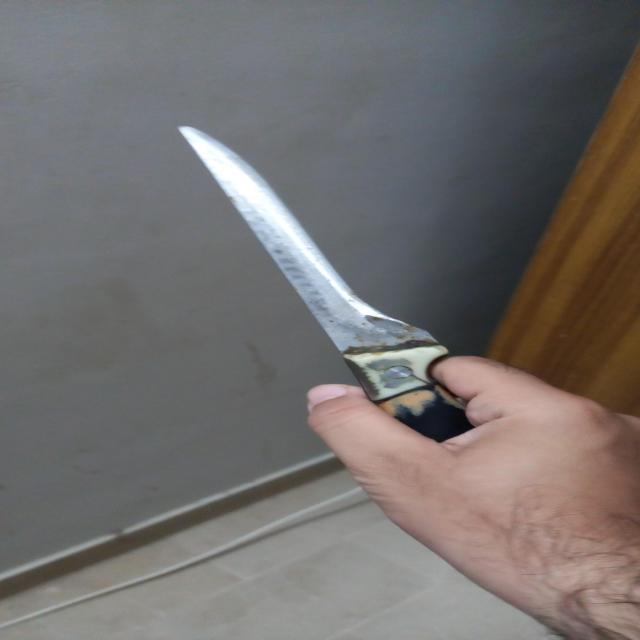faca: (174, 124, 480, 445)
